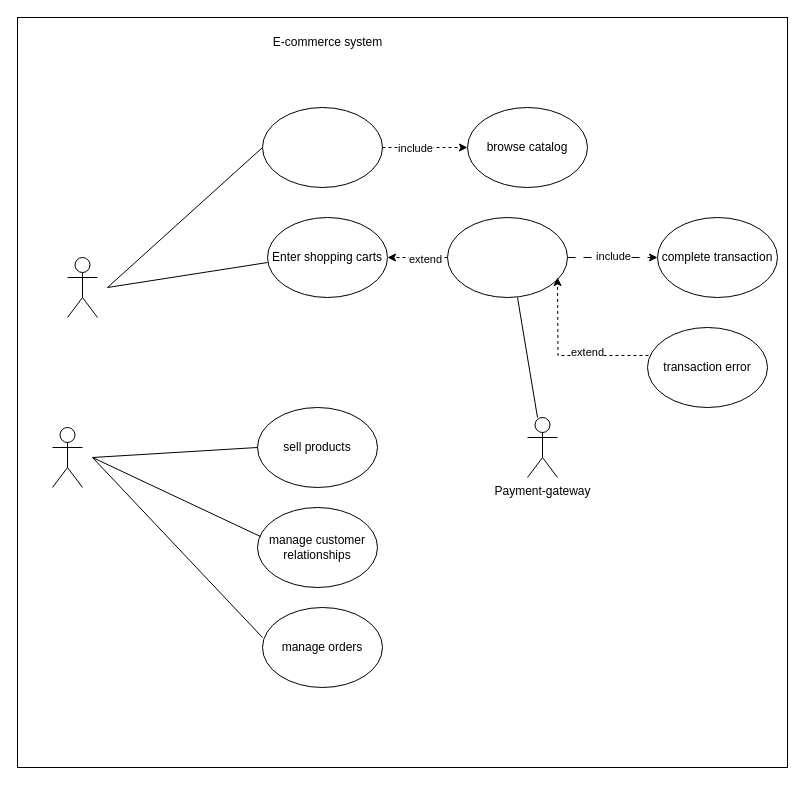
Image size: 805x785. Some labels were removed from this diagram. The box of each missing label's shape, as (x1, y1, x2, y2) in pixels:
Admin: (52, 426, 82, 488)
Customer: (66, 256, 98, 318)
enter product catalog: (262, 106, 382, 188)
make purchases: (446, 216, 568, 298)
